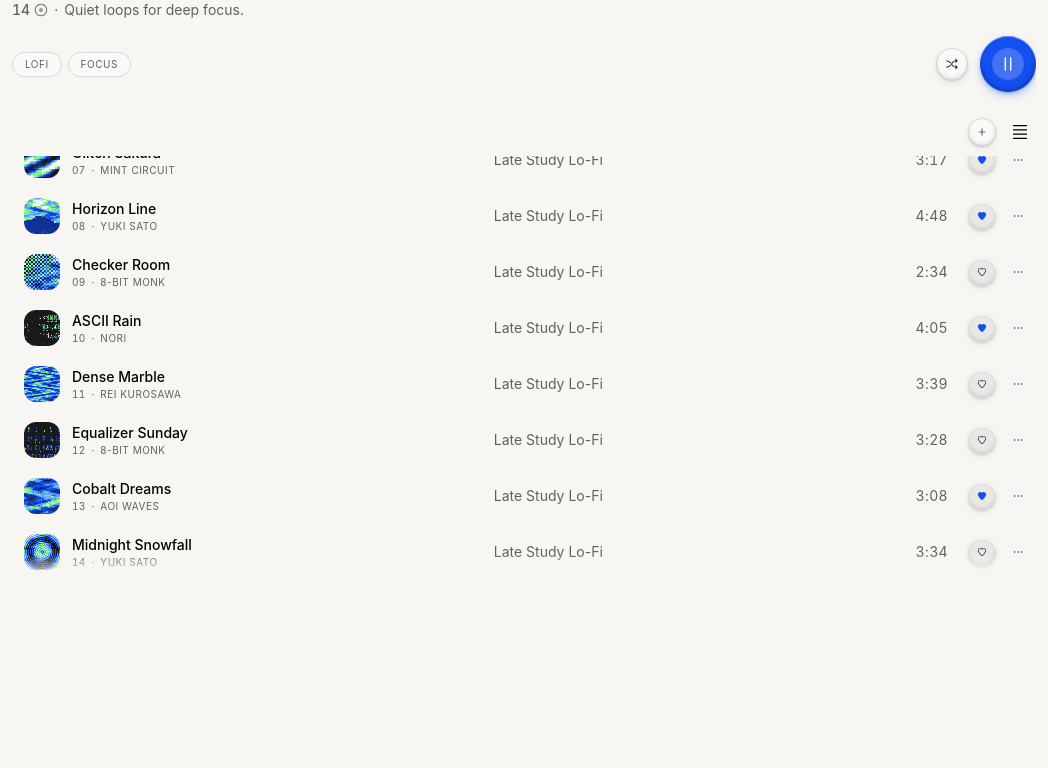
Test: CollectionDetail › playing indicator (positional list) › marks only the row at currentIndex as playing when a track is duplicated
(page scrolled)
// Move the playhead onto the second copy.
Click the button "Midnight Snowfall 14 · Yuki Sato Late Study Lo-Fi 3:34": click(42, 552) [12,526,960,578]
Wait 650 ms
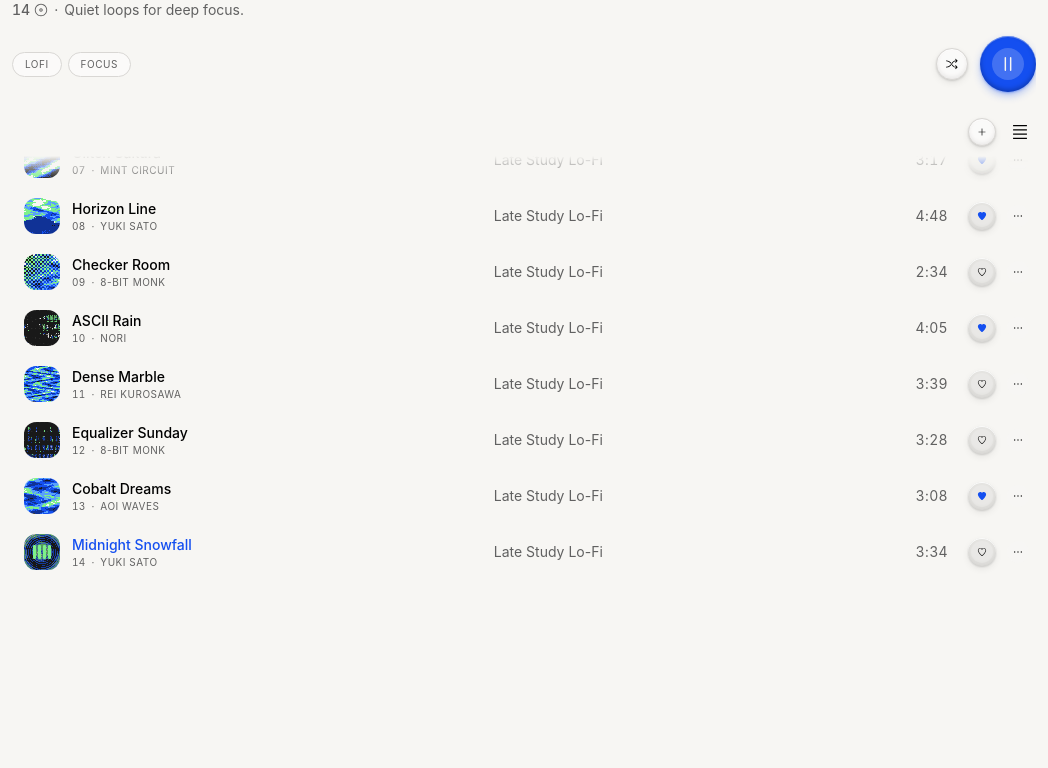
Expected: the number of elements named "Playing" is 1, [33,545,51,559]
